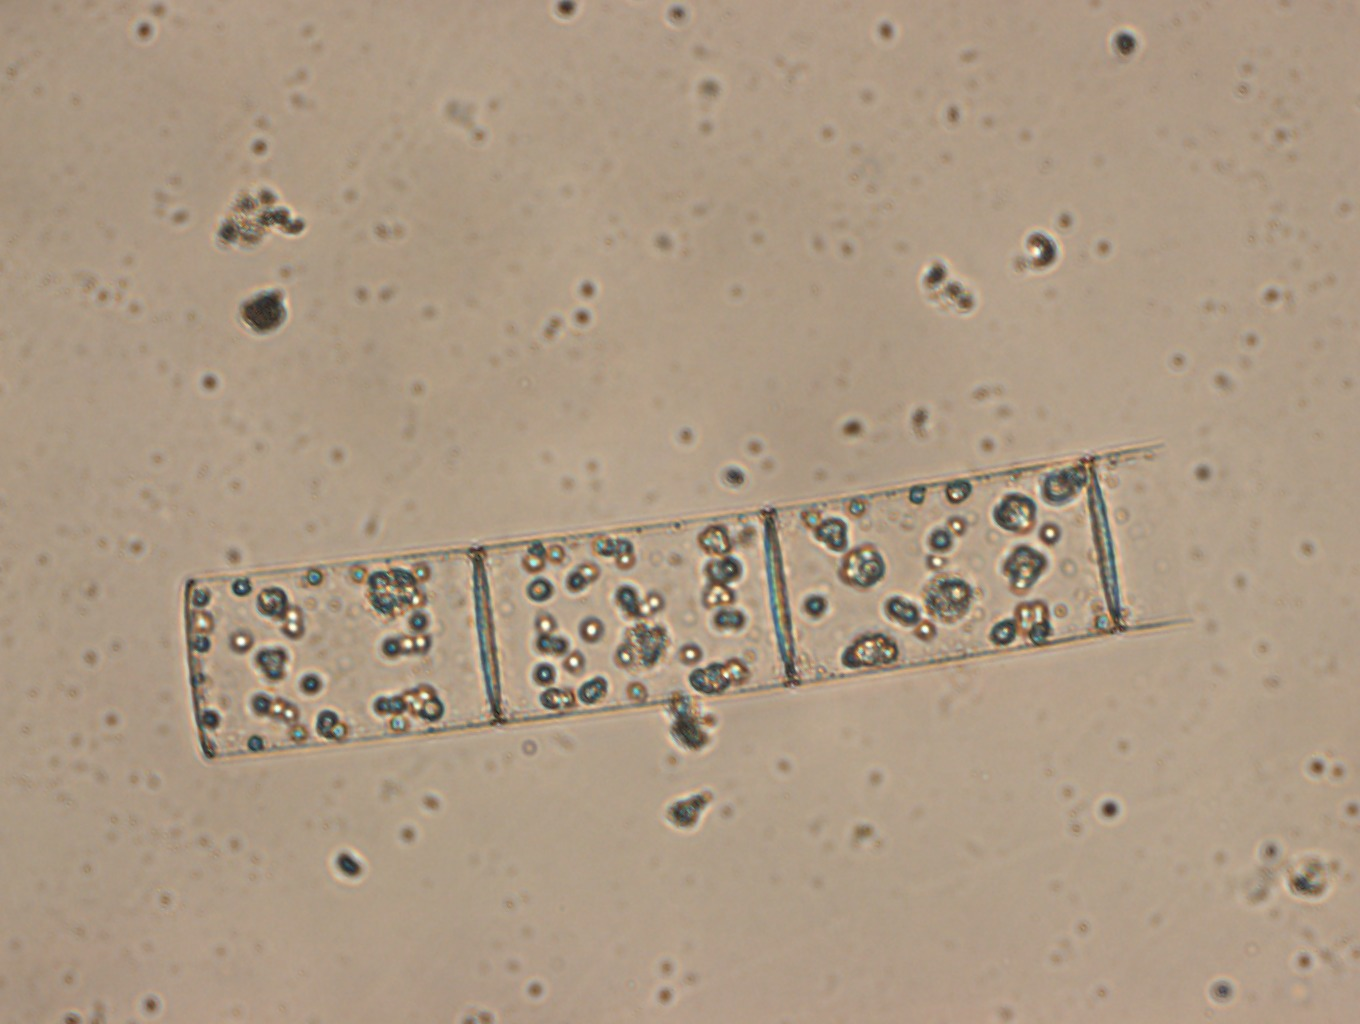guinardia flaccida: (182, 443, 1177, 758)
